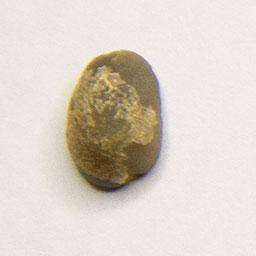premium: (62, 46, 168, 194)
